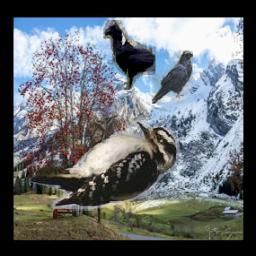Crow: (103, 20, 155, 90), (152, 51, 193, 104)
Woodpecker: (28, 118, 187, 213)
